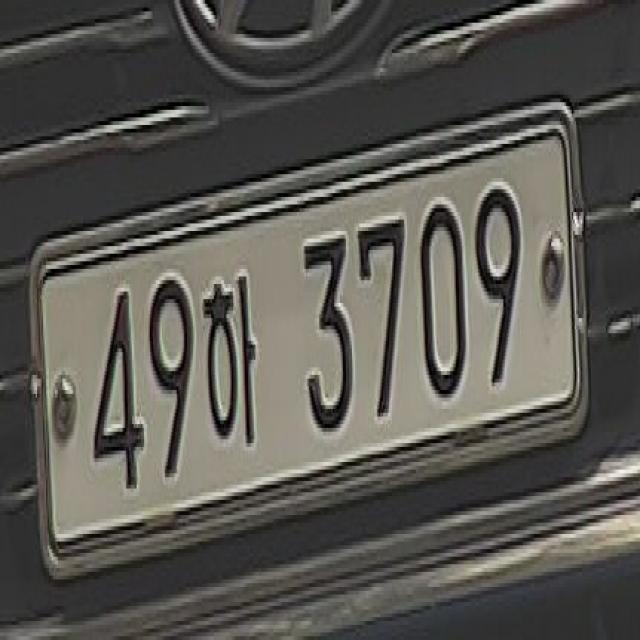0: (417, 187, 468, 416)
3: (296, 226, 354, 438)
4: (90, 286, 146, 493)
7: (356, 199, 409, 435)
9: (472, 170, 532, 398), (148, 264, 194, 492)
ha: (200, 254, 264, 467)
license_plate: (25, 82, 596, 602)
